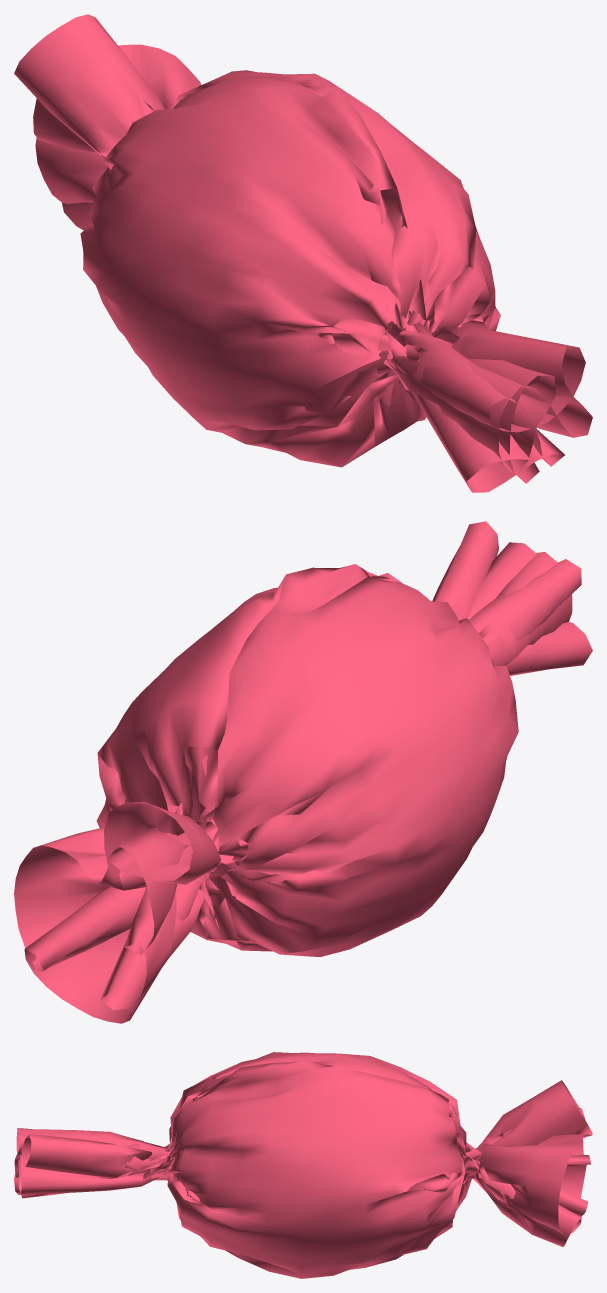
File: candyJ.fbx
3 renders of one model, top to bottom at view 1: azimuth 30°, elevation 25°; view 2: azimuth 150°, elevation 25°; view 3: azimuth 270°, elevation 25°, orthographic. The views are drawn at different scales.
Parts seen in each view (by area): view 1: Cylinder; view 2: Cylinder; view 3: Cylinder.
Boxes of the visible parts, box(x1,y1,x2,y2) form: Cylinder: box(14, 14, 592, 492); Cylinder: box(14, 521, 592, 1023); Cylinder: box(14, 1052, 592, 1278).
Size of the model in its own units: 140 by 139 by 340.
